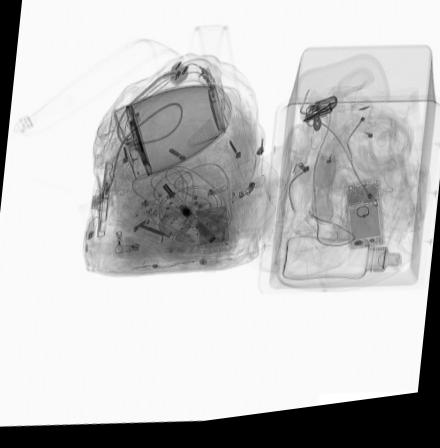Powerbank: (195, 209, 232, 260)
